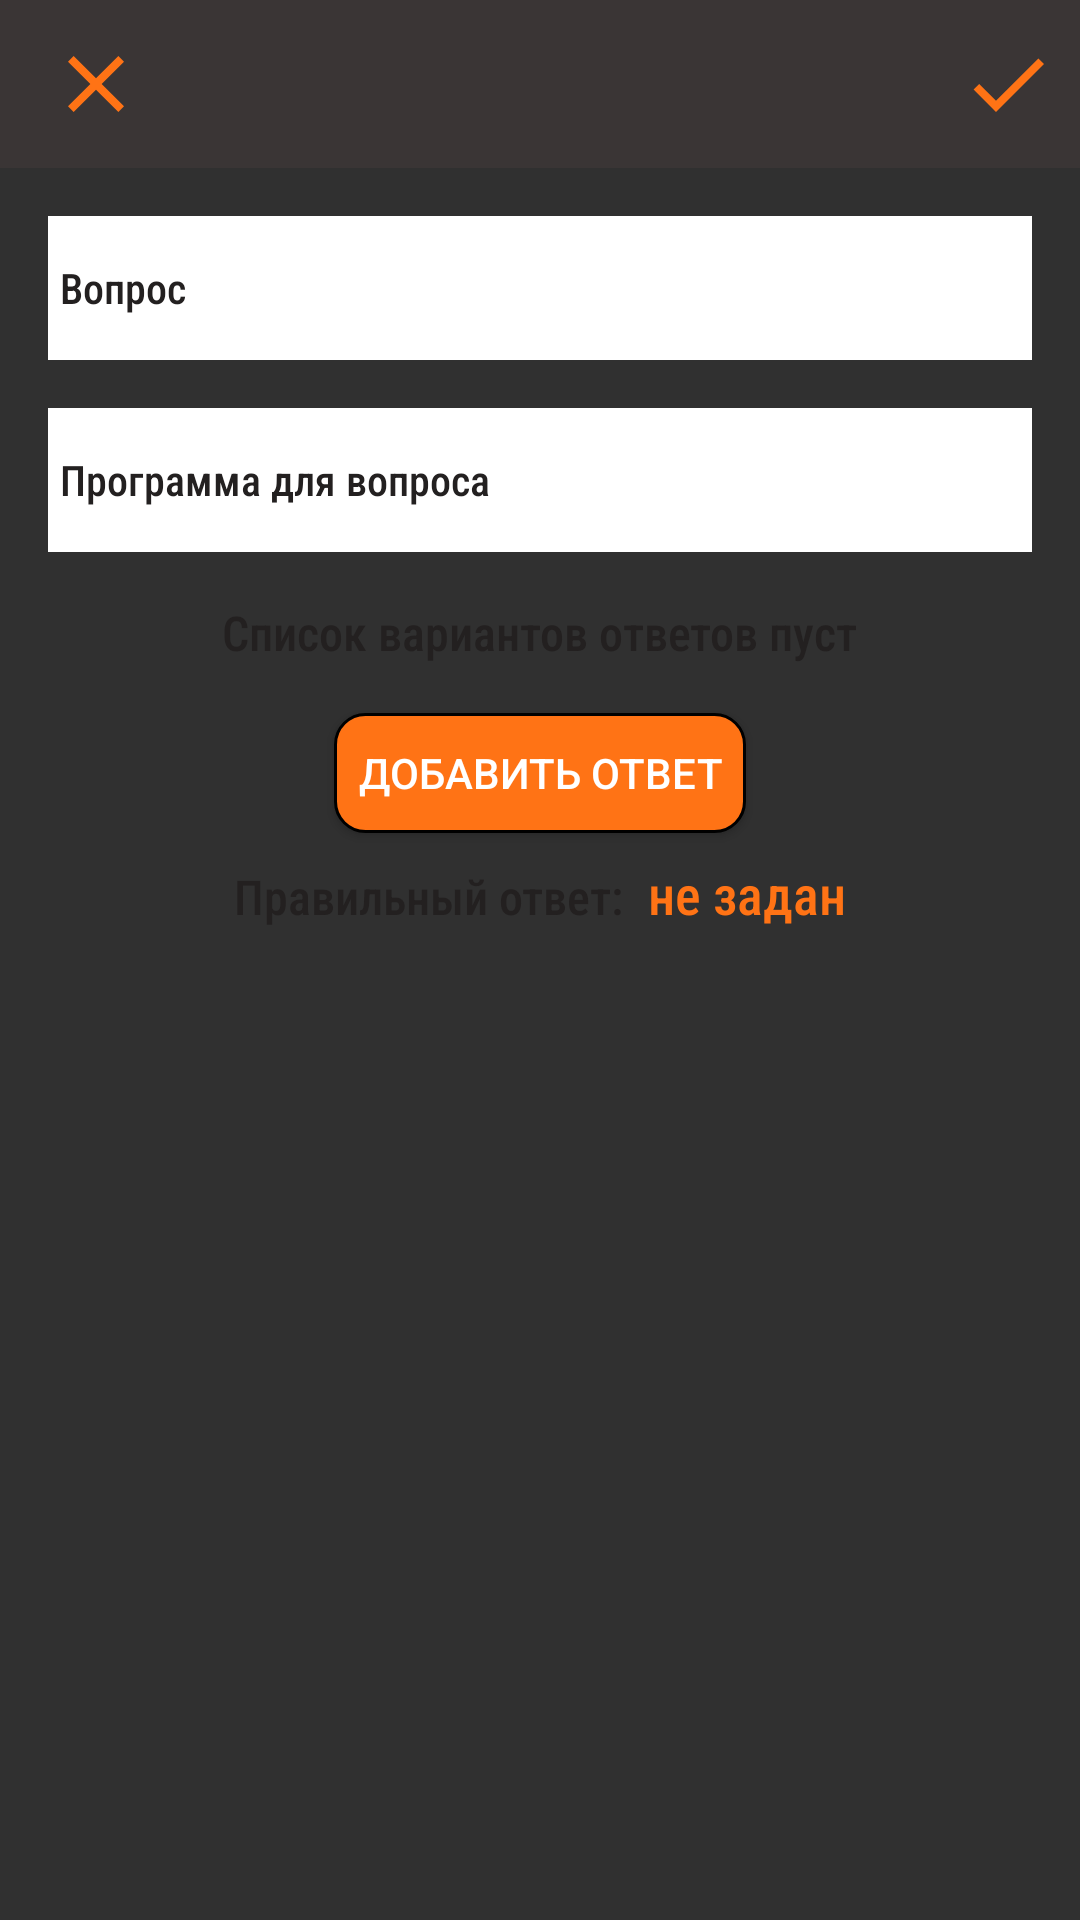

Named icons in this screenshot (1080px×1920px) and their bounding boxes, (x1, y1, x2, y2):
close: (68, 56, 124, 112)
done: (973, 58, 1044, 112)
